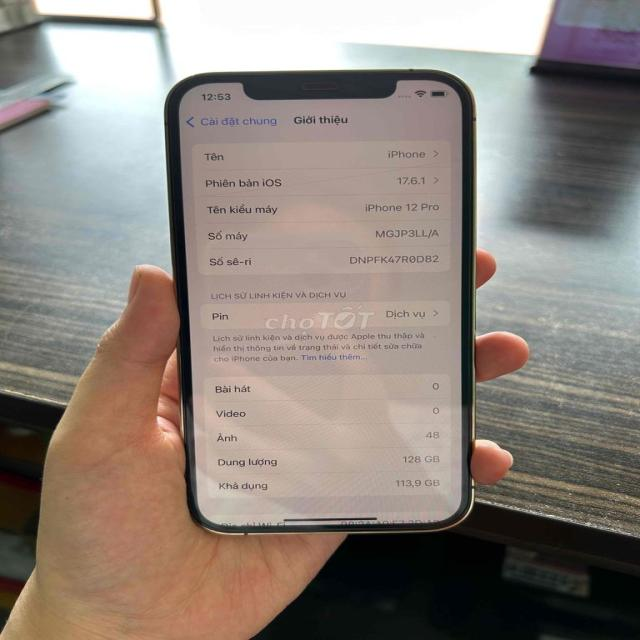gen_12_13: (163, 68, 487, 540)
